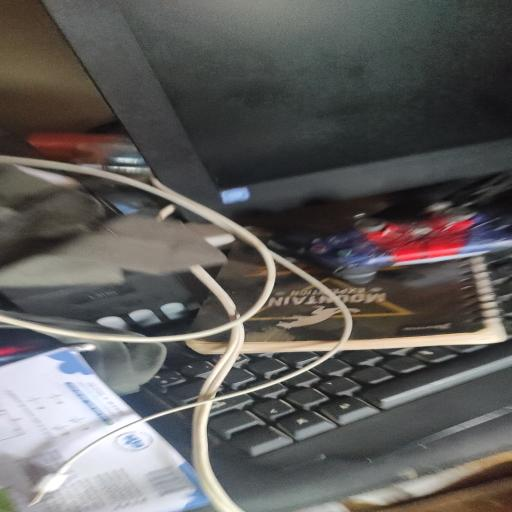ControlPlay4: (304, 202, 512, 284)
